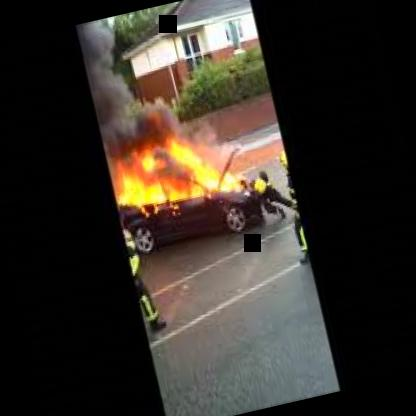fire: (106, 124, 245, 227)
